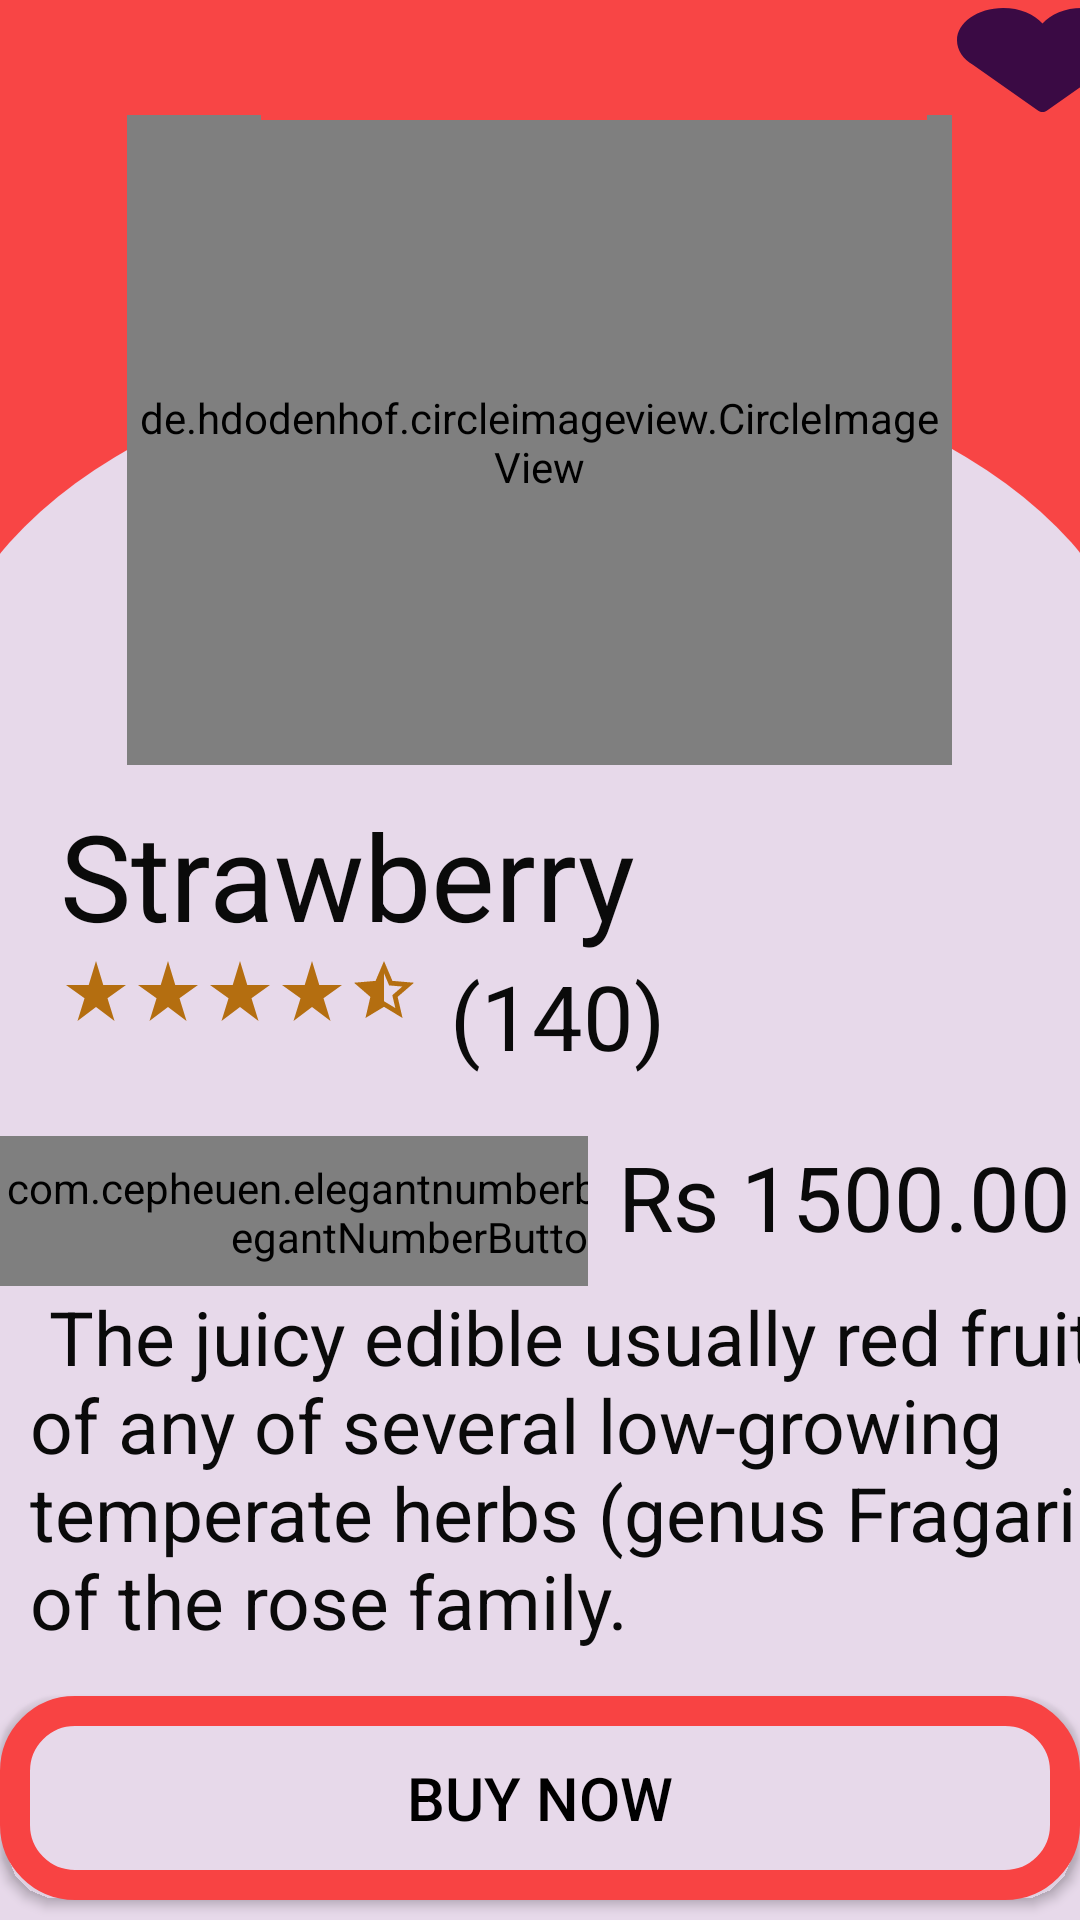

Icon click points for this 1080px×1920px phone screenshot, format (x=x, y=y):
star half: (x=384, y=989)
star rate: (x=96, y=991), (x=168, y=991), (x=240, y=991), (x=312, y=991)
